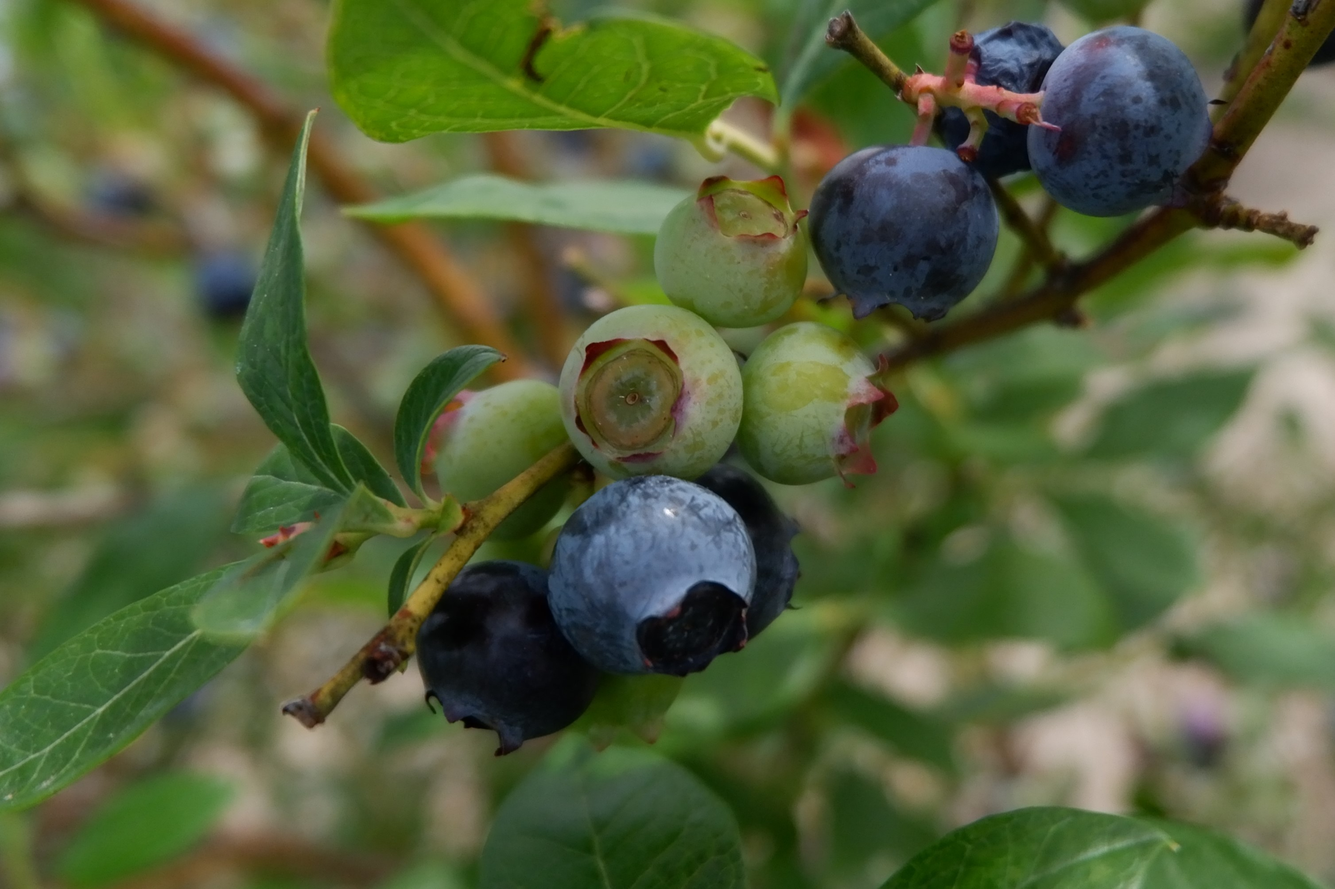Immature: (563, 309, 741, 474), (739, 322, 893, 483), (427, 379, 572, 532), (660, 179, 807, 326)
Mature: (551, 482, 756, 673), (419, 564, 595, 748), (1033, 33, 1207, 213), (815, 145, 995, 316), (933, 21, 1065, 182), (706, 464, 798, 634)
